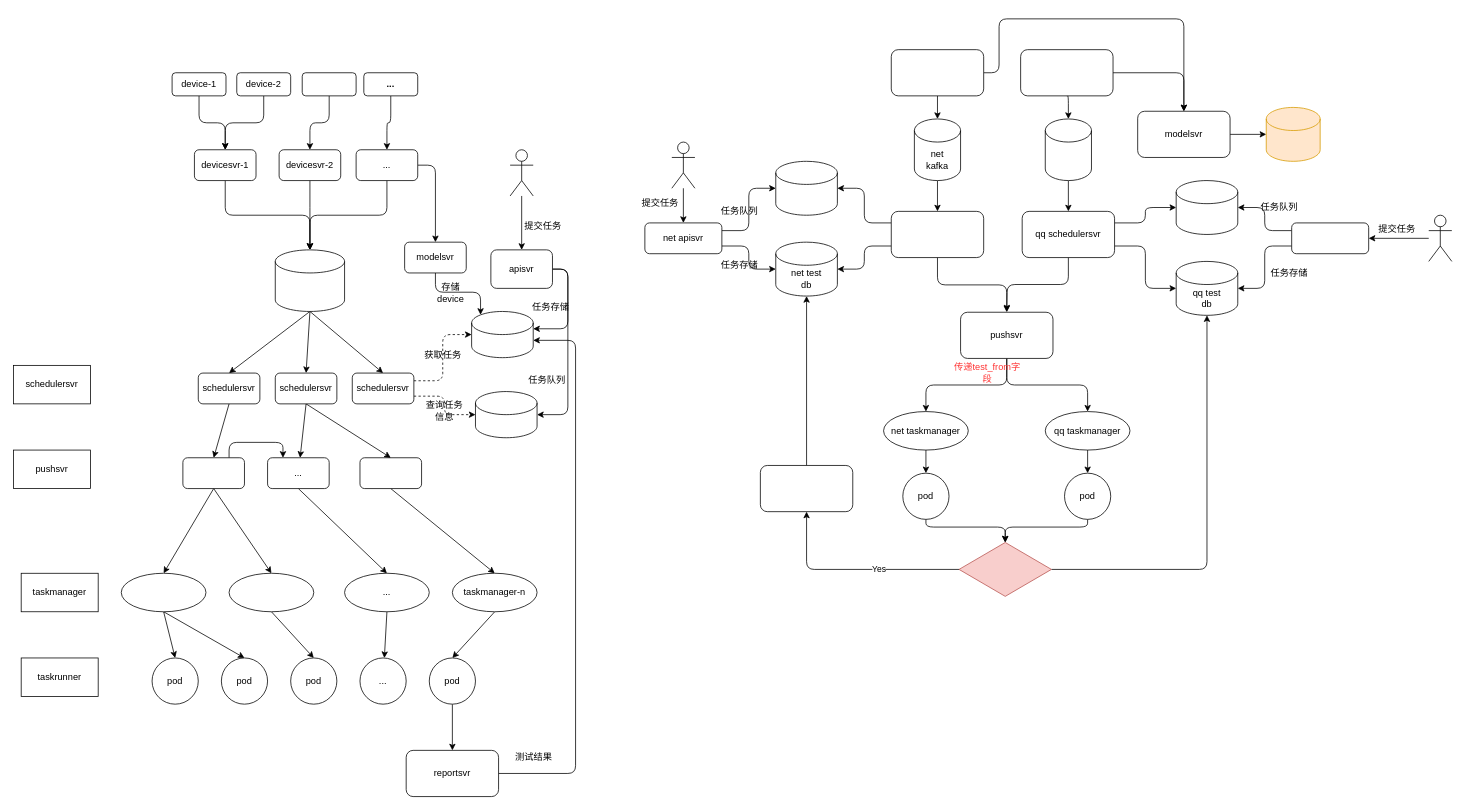
Image size: 1465x810. Some labels were removed from this diagram. The shapes that lost their labels are listed below. From the top down, each one's centre as x and y in pixels, then its label:
At pixel 328 84: "device-3".
At pixel 937 72: "net devices".
At pixel 1066 72: "qq devices".
At pixel 1068 149: "qq kafka".
At pixel 1292 134: "device db".
At pixel 806 188: "net redis".
At pixel 1206 207: "qq redis".
At pixel 937 234: "net schedulersvr".
At pixel 1330 238: "qq apisvr".
At pixel 310 280: "kafka (deviceheart)".
At pixel 502 334: "mysql".
At pixel 506 414: "redis".
At pixel 213 473: "pushsvr-0".
At pixel 390 473: "pushsvr-n".
At pixel 806 488: "net reportsvr".
At pixel 1004 569: "test_from==net".
At pixel 163 592: "taskmanager-0".
At pixel 271 592: "taskmanager-1".
